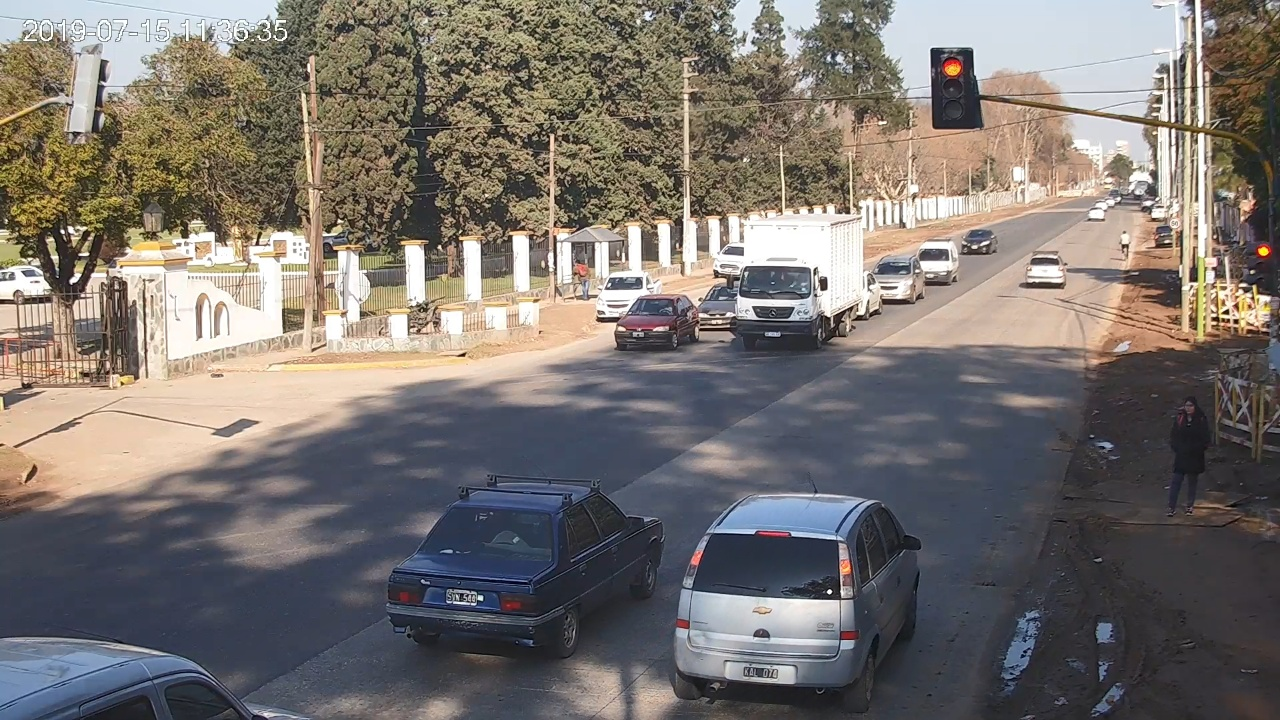car: (675, 494, 921, 710), (387, 475, 664, 658), (1, 631, 310, 720)
front car: (615, 294, 700, 350)
front truck: (728, 215, 863, 349)
traffic light: (939, 54, 968, 120), (1257, 241, 1271, 287)
